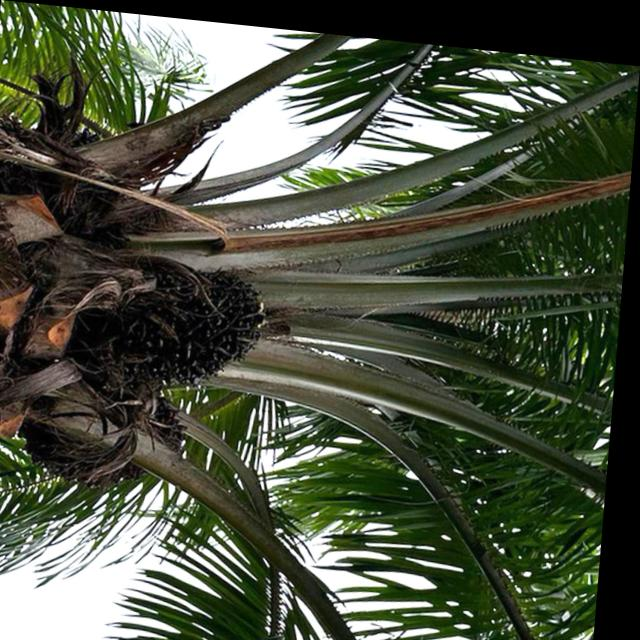unripe: (82, 242, 282, 401), (19, 367, 202, 497)
